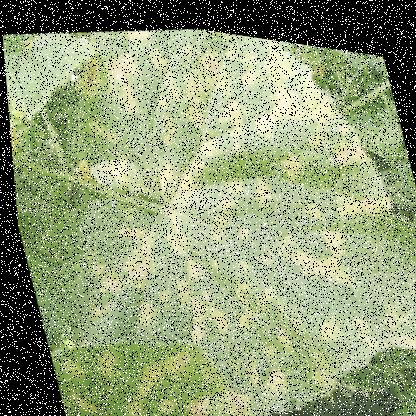DownyMildew: (73, 103, 272, 297), (209, 24, 377, 199), (73, 9, 246, 137), (211, 259, 345, 405), (271, 193, 368, 294)
